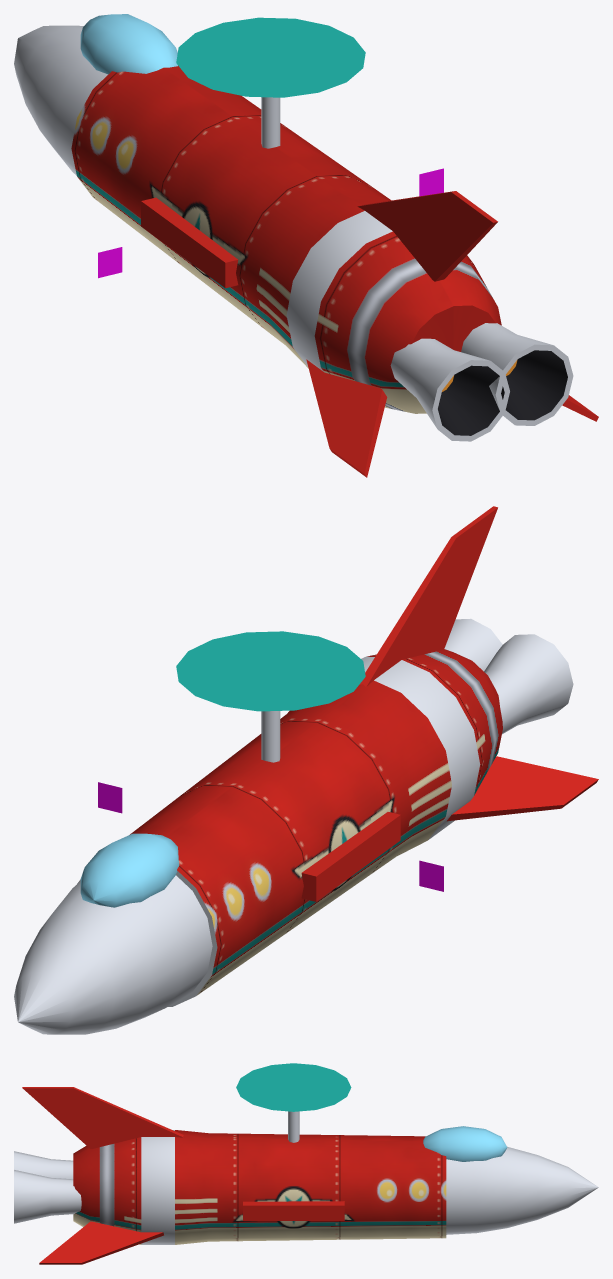
File: survey_ship.obj
The picture shows the model from 3 angles, top to bottom: view 1: azimuth 30°, elevation 25°; view 2: azimuth 150°, elevation 25°; view 3: azimuth 270°, elevation 25°; orthographic projection. The views are drawn at different scales.
Visible parts, largest first — view 1: body, bell, dish, fin_top, fin_left, canopy, pylon, mast, slot_pod1; view 2: body, dish, bell, fin_top, canopy, fin_left, pylon, mast; view 3: body, fin_top, dish, bell, fin_right, canopy, pylon, mast.
Part boxes in pixels (x1=…): body: x1=14, y1=25, x2=501, y2=413; bell: x1=390, y1=323, x2=573, y2=441; dish: x1=176, y1=17, x2=365, y2=97; fin_top: x1=357, y1=191, x2=497, y2=281; fin_left: x1=306, y1=359, x2=387, y2=477; canopy: x1=80, y1=14, x2=177, y2=74; pylon: x1=141, y1=197, x2=238, y2=288; mast: x1=261, y1=97, x2=280, y2=148; slot_pod1: x1=98, y1=247, x2=122, y2=278; body: x1=14, y1=649, x2=502, y2=1034; dish: x1=176, y1=631, x2=365, y2=711; bell: x1=444, y1=618, x2=573, y2=734; fin_top: x1=359, y1=506, x2=497, y2=686; canopy: x1=80, y1=833, x2=179, y2=907; fin_left: x1=447, y1=756, x2=598, y2=821; pylon: x1=301, y1=812, x2=400, y2=901; mast: x1=261, y1=711, x2=280, y2=762; body: x1=73, y1=1130, x2=598, y2=1244; fin_top: x1=22, y1=1087, x2=183, y2=1148; dish: x1=236, y1=1063, x2=351, y2=1111; bell: x1=14, y1=1151, x2=81, y2=1223; fin_right: x1=39, y1=1221, x2=163, y2=1264; canopy: x1=423, y1=1126, x2=507, y2=1161; pylon: x1=243, y1=1201, x2=344, y2=1220; mast: x1=288, y1=1111, x2=299, y2=1142.
Bounding box in the file's own units: 14.2 × 9.9 × 34.5.
Materials: 8 (1 with a texture image).
